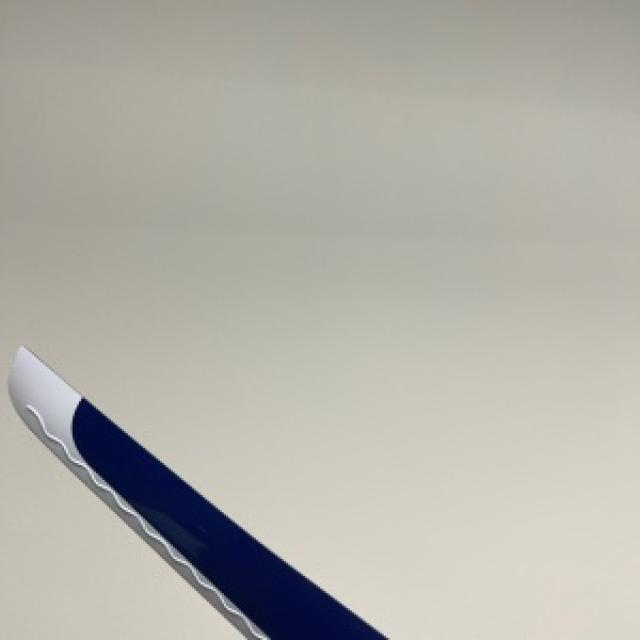healthy: (6, 346, 363, 638)
